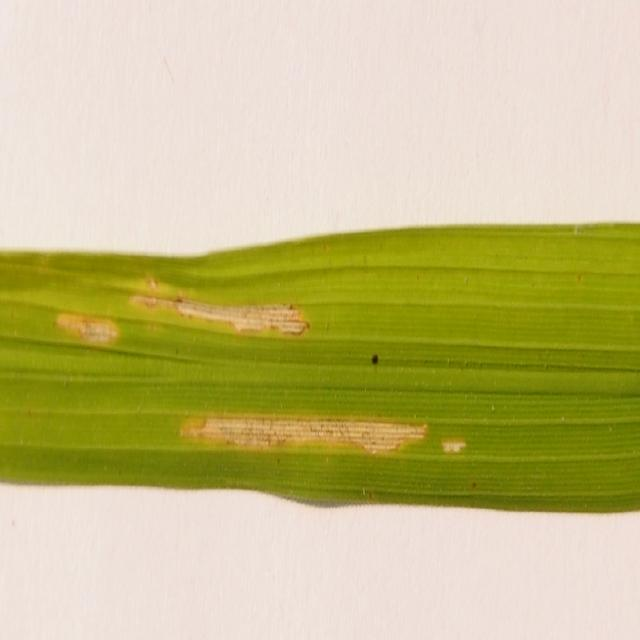leaf blight: (127, 266, 314, 352), (172, 402, 428, 464), (54, 293, 121, 366), (440, 422, 467, 468)
